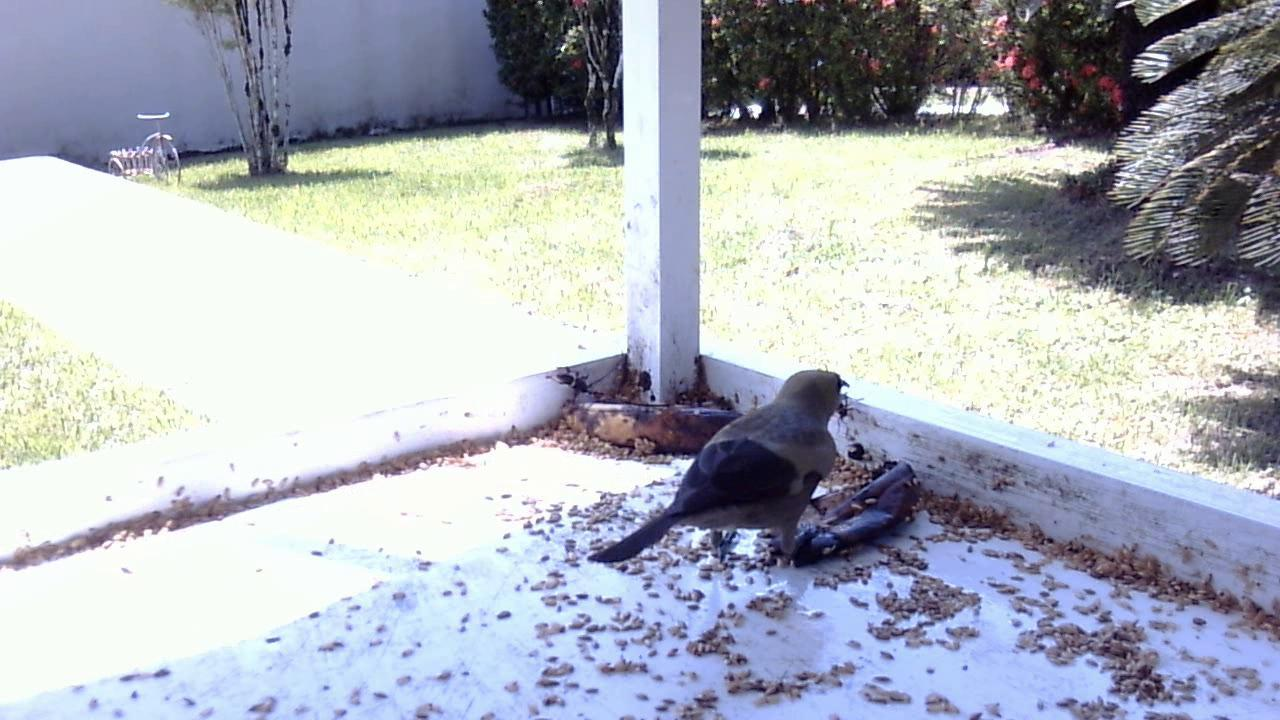sanhaco_do_coqueiro: (580, 362, 863, 581)
